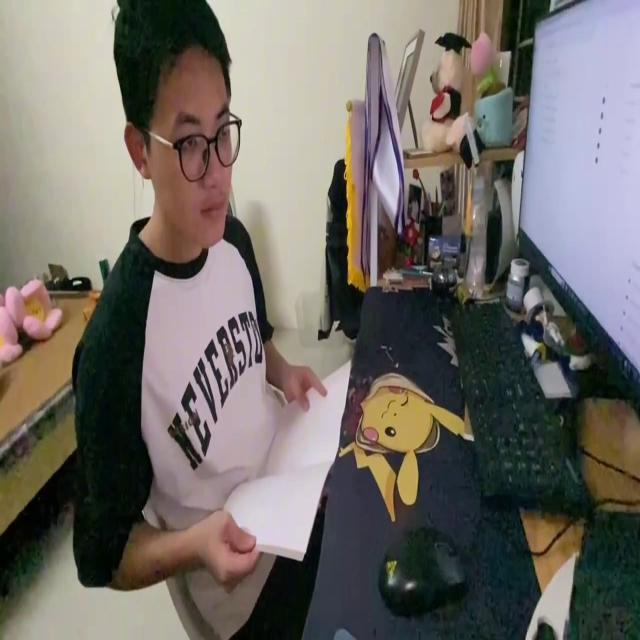book: (221, 358, 352, 566)
laptop: (515, 0, 640, 427)
student: (68, 0, 325, 637)
